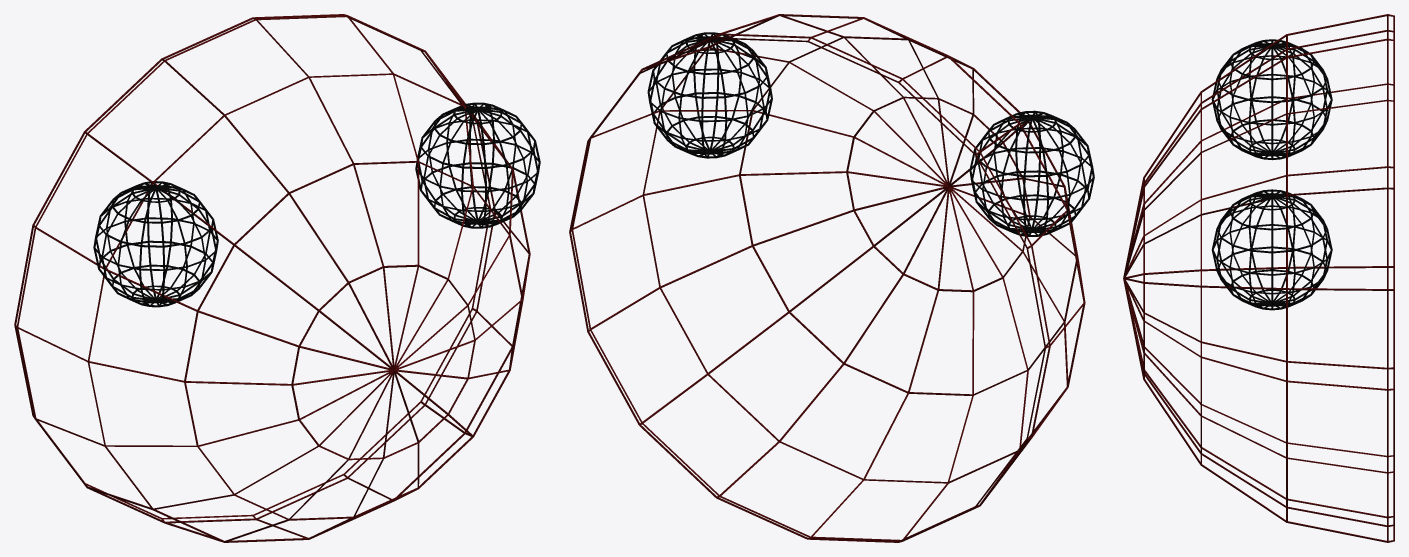
File: wire_red_top.obj
3 views of the same model, side by side, from view 1: azimuth 30°, elevation 25°; view 2: azimuth 150°, elevation 25°; view 3: azimuth 270°, elevation 25° (orthographic). The views are drawn at different scales.
Parts seen in each view (by area): view 1: Sphere_Sphere.000_Sphere_Sphere.002, Sphere.001_Sphere.002, Sphere_Sphere.002; view 2: Sphere_Sphere.000_Sphere_Sphere.002, Sphere.001_Sphere.002, Sphere_Sphere.002; view 3: Sphere_Sphere.000_Sphere_Sphere.002, Sphere_Sphere.002, Sphere.001_Sphere.002.
Boxes of the visible parts, box(x1,y1,x2,y2) form: Sphere_Sphere.000_Sphere_Sphere.002: box(14, 14, 530, 542); Sphere.001_Sphere.002: box(93, 181, 218, 307); Sphere_Sphere.002: box(415, 102, 540, 228); Sphere_Sphere.000_Sphere_Sphere.002: box(569, 14, 1085, 542); Sphere.001_Sphere.002: box(969, 110, 1094, 236); Sphere_Sphere.002: box(647, 32, 772, 158); Sphere_Sphere.000_Sphere_Sphere.002: box(1123, 14, 1394, 542); Sphere_Sphere.002: box(1211, 189, 1332, 310); Sphere.001_Sphere.002: box(1211, 39, 1332, 160).
Size of the model in its own units: 5.34 by 5.34 by 2.74.
